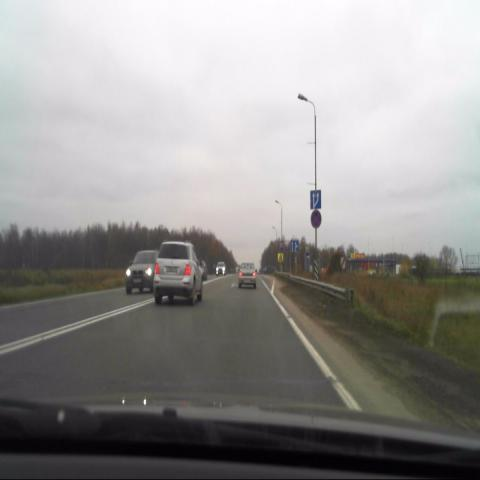3_27: (310, 209, 322, 229)
